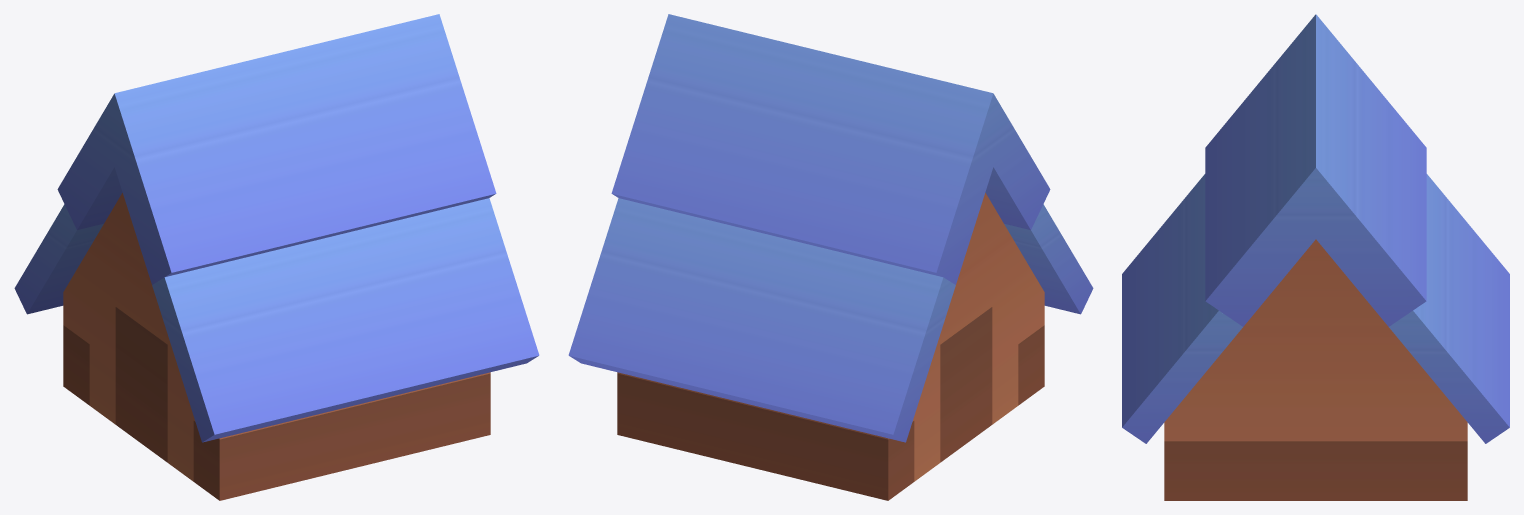
File: kenney-hexagon-unit-house.glb
The picture shows the model from 3 angles, left to right: view 1: azimuth 30°, elevation 25°; view 2: azimuth 150°, elevation 25°; view 3: azimuth 270°, elevation 25°; orthographic projection. The views are drawn at different scales.
Visible parts, largest first — view 1: unit_house; view 2: unit_house; view 3: unit_house.
Part boxes in pixels (bbox=[...]): unit_house: bbox=[14, 14, 539, 500]; unit_house: bbox=[568, 14, 1093, 500]; unit_house: bbox=[1122, 14, 1509, 500].
Size of the model in its own units: 0.36 by 0.3781 by 0.384.
1 material, 1 textured.
